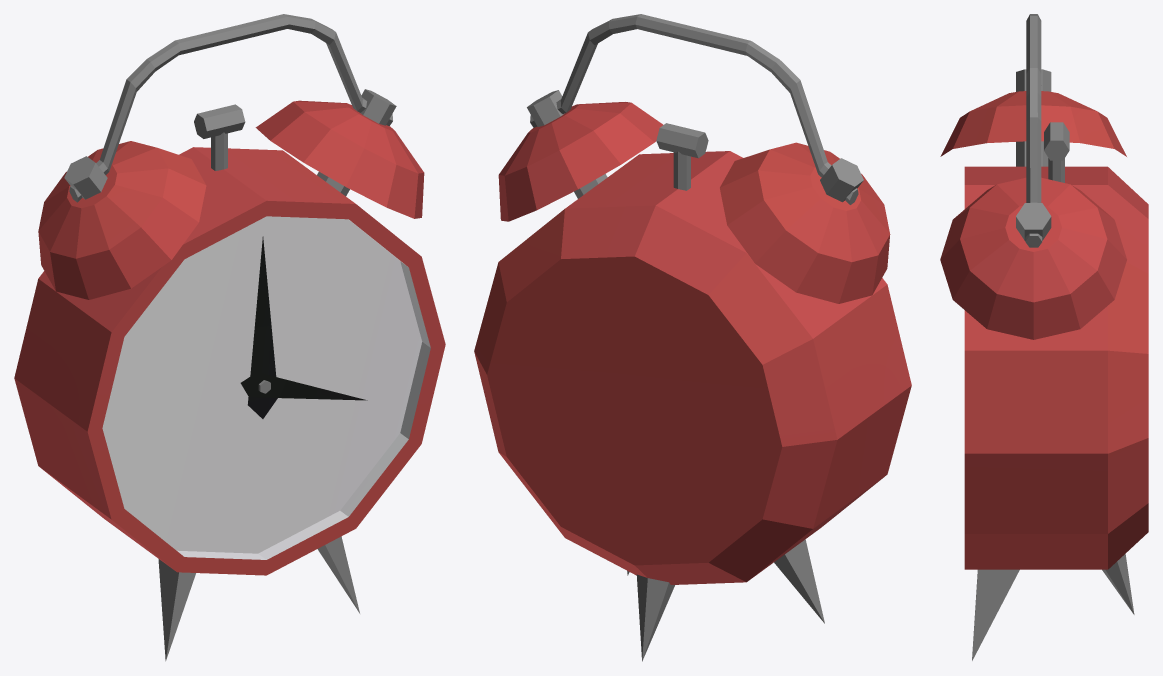
File: klocka.glb
3 views of the same model, side by side, from view 1: azimuth 30°, elevation 25°; view 2: azimuth 150°, elevation 25°; view 3: azimuth 270°, elevation 25° (orthographic). The views are drawn at different scales.
Parts seen in each view (by area): view 1: Alarm Clock; view 2: Alarm Clock; view 3: Alarm Clock.
Part boxes in pixels (x1=…): Alarm Clock: x1=14, y1=14, x2=445, y2=661; Alarm Clock: x1=474, y1=14, x2=911, y2=661; Alarm Clock: x1=940, y1=14, x2=1148, y2=660.
Size of the model in its own units: 0.1243 by 0.192 by 0.0633.
1 material, 1 textured.
